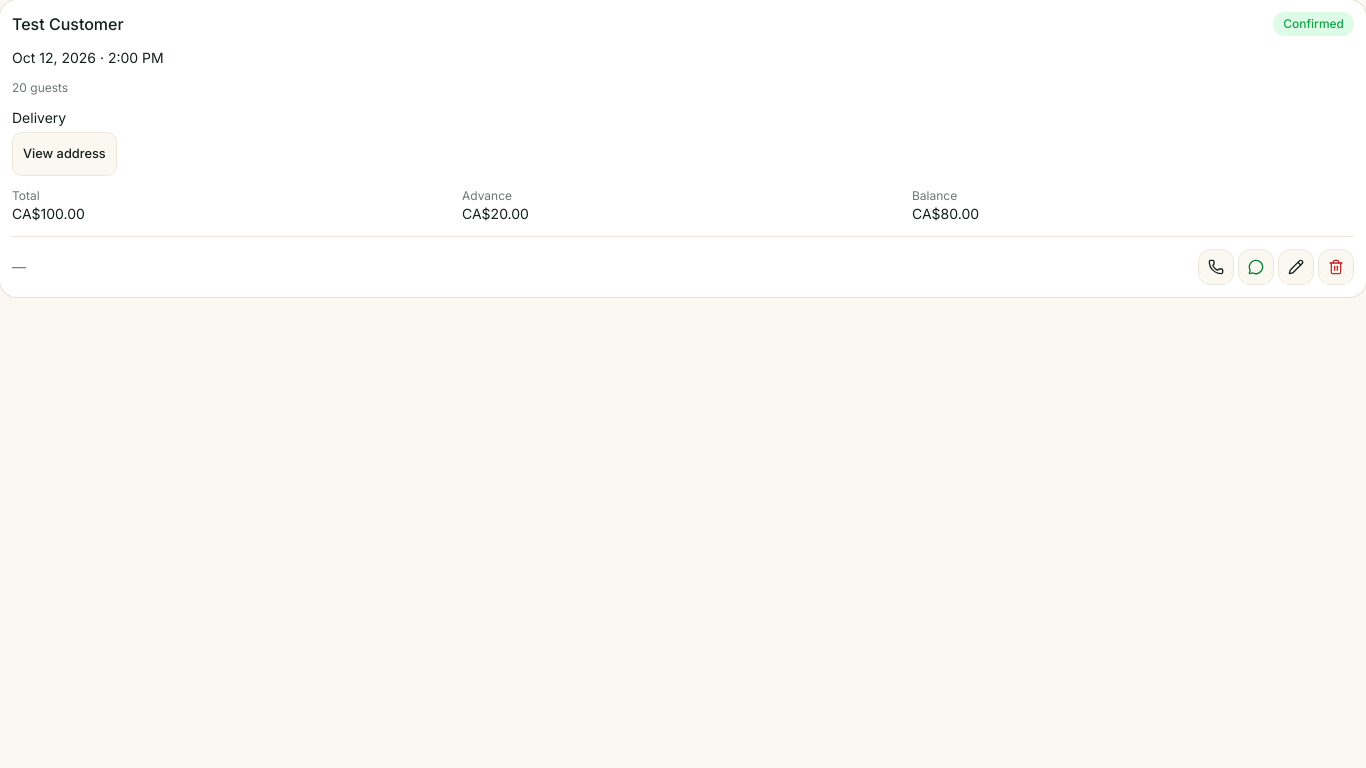
it: shows delivery method and the full address at 390px
This screenshot has width=1366, height=768.
Expected: the text "Delivery" is shown, [12,109,66,126]
Click the button "View address" at x=64, y=154, box [12,132,117,176]
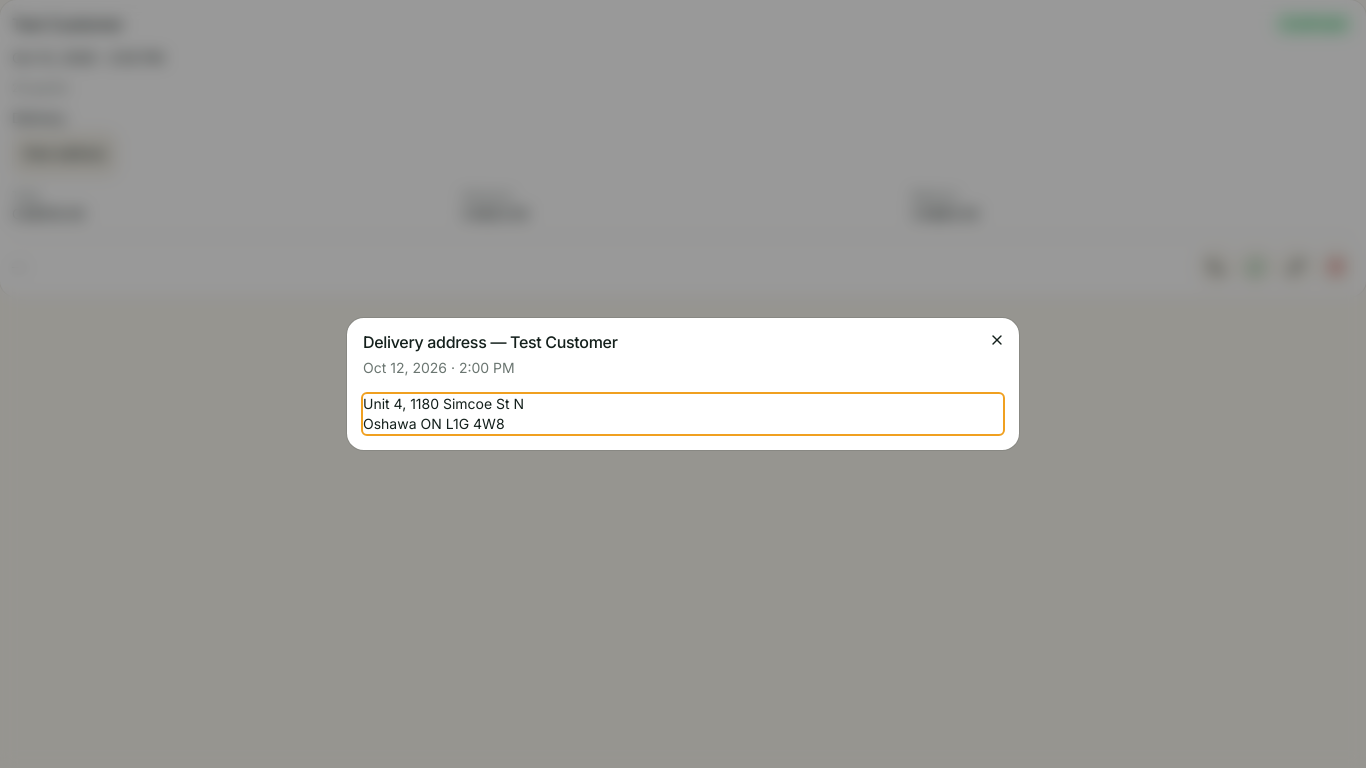
Expected: the text named "Full delivery address" shows "1180 Simcoe St N", [363,395,524,432]
